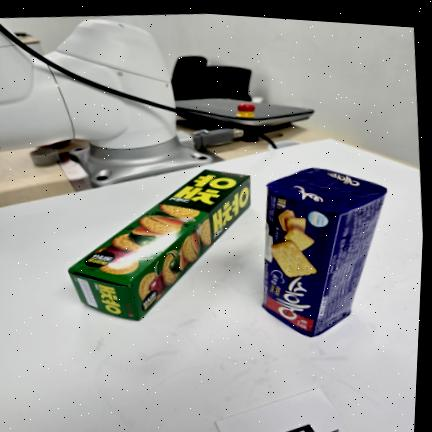cracker_ace: (263, 168, 387, 337)
cracker_vege: (69, 170, 250, 320)
